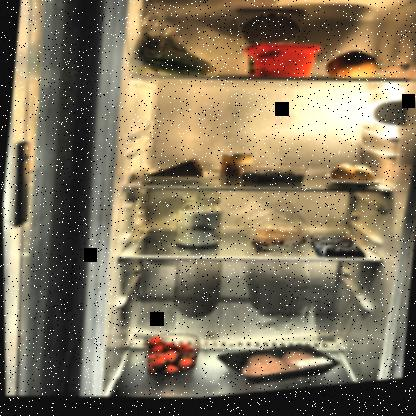blueberries: (240, 168, 308, 195)
butter: (238, 40, 322, 92)
chicken: (237, 345, 327, 394)
chocolate: (306, 234, 367, 269)
corn: (216, 155, 252, 188)
eggs: (328, 166, 378, 196)
green_beans: (131, 28, 221, 89)
shrimp: (248, 228, 308, 260)
strawberries: (140, 333, 200, 382)
sweet_potato: (324, 51, 380, 91)
